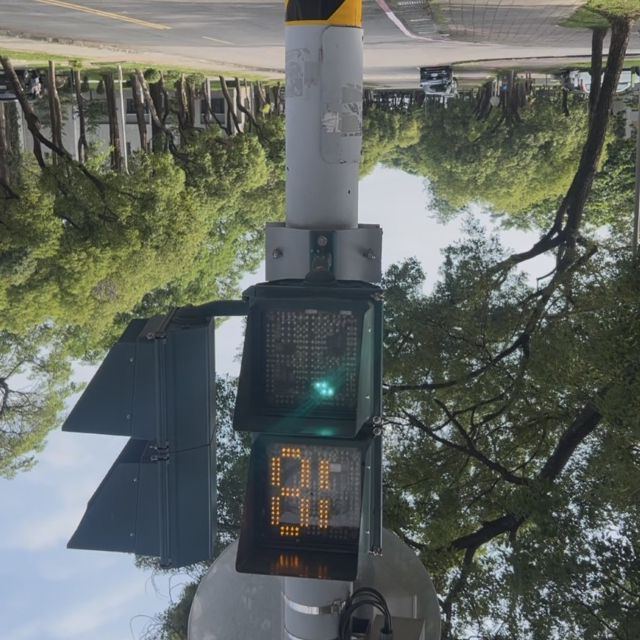green_light: (244, 282, 368, 587)
